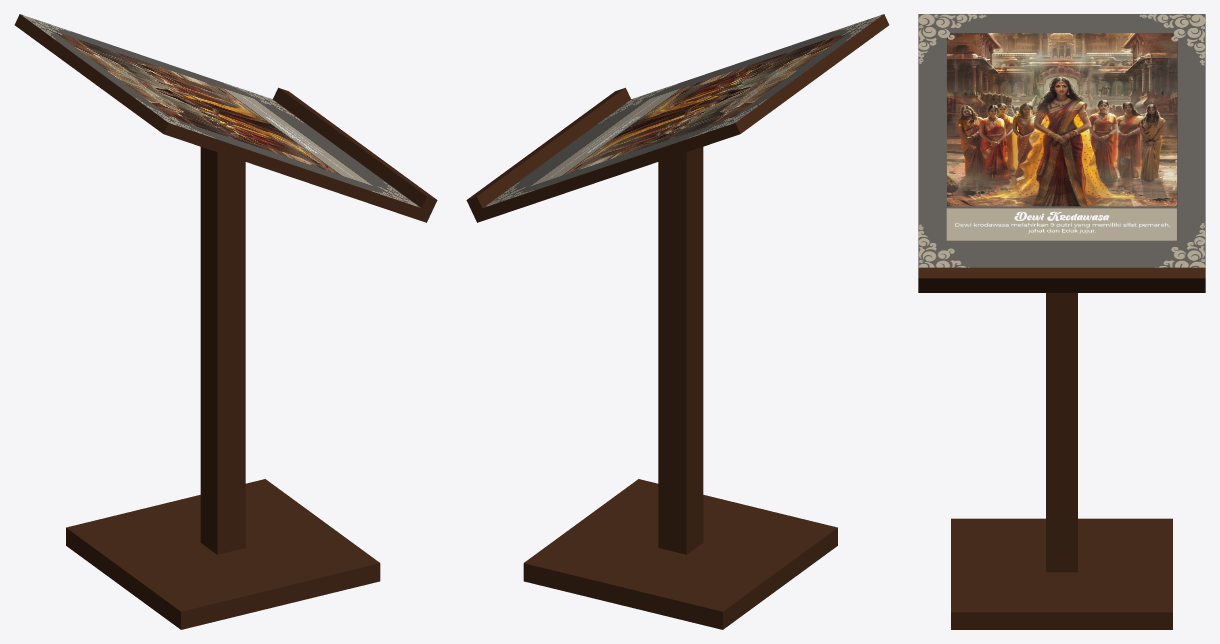
The model's file is krodawasa.glb.
3 views of the same model, side by side, from view 1: azimuth 30°, elevation 25°; view 2: azimuth 150°, elevation 25°; view 3: azimuth 270°, elevation 25° (orthographic). The views are drawn at different scales.
Parts seen in each view (by area): view 1: Cube.001, Cube.002, Cube; view 2: Cube.001, Cube.002, Cube; view 3: Cube.002, Cube.001, Cube.
Boxes of the visible parts, box(x1,y1,x2,y2) form: Cube.001: box(66, 479, 380, 629); Cube.002: box(14, 14, 437, 222); Cube: box(200, 147, 245, 554); Cube.001: box(523, 479, 837, 629); Cube.002: box(466, 14, 889, 222); Cube: box(658, 147, 703, 554); Cube.002: box(918, 14, 1205, 292); Cube.001: box(951, 518, 1172, 629); Cube: box(1046, 293, 1077, 572).
Size of the model in its own units: 0.6504 by 1.19 by 0.6117.
2 materials, 1 textured.
